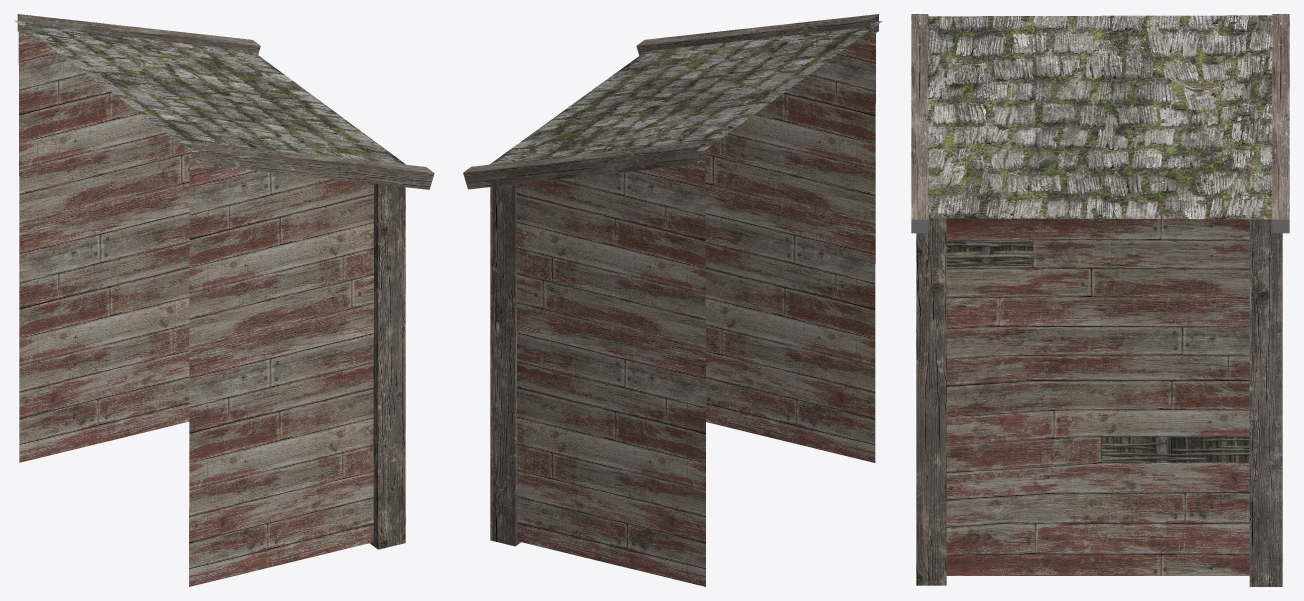
File: Shed6_LOD1.fbx
The picture shows the model from 3 angles, left to right: view 1: azimuth 30°, elevation 25°; view 2: azimuth 150°, elevation 25°; view 3: azimuth 270°, elevation 25°; orthographic projection. The views are drawn at different scales.
Visible parts, largest first — view 1: polySurface159; view 2: polySurface159; view 3: polySurface159.
Boxes of the visible parts, bbox=[...] form: polySurface159: bbox=[15, 14, 434, 586]; polySurface159: bbox=[463, 14, 882, 586]; polySurface159: bbox=[911, 14, 1289, 586].
Size of the model in its own units: 2.44 by 4.35 by 3.2.
